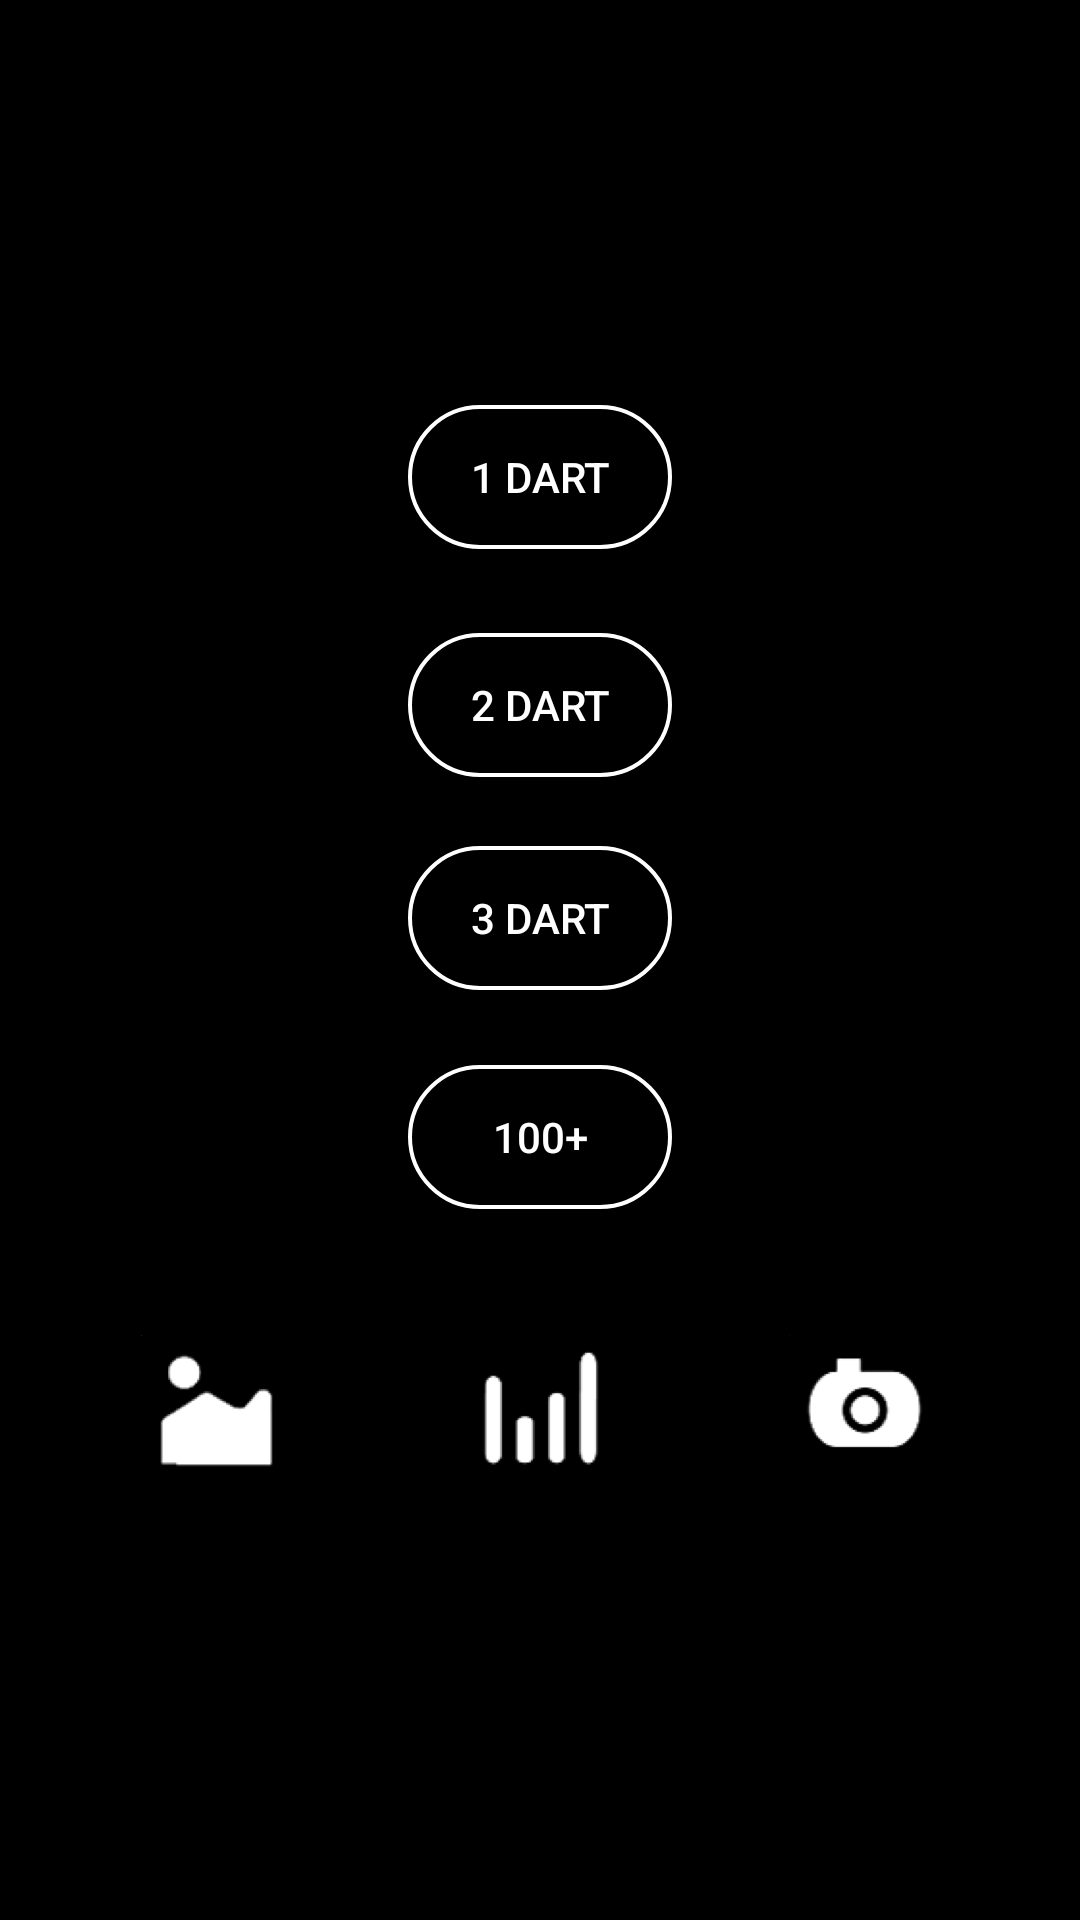

Icons on this 1080×1920 Android screen, each with its box as (x1, y1, x2, y2):
camera: (808, 1358, 921, 1448)
gallery: (141, 1335, 273, 1466)
graph: (484, 1352, 598, 1465)
